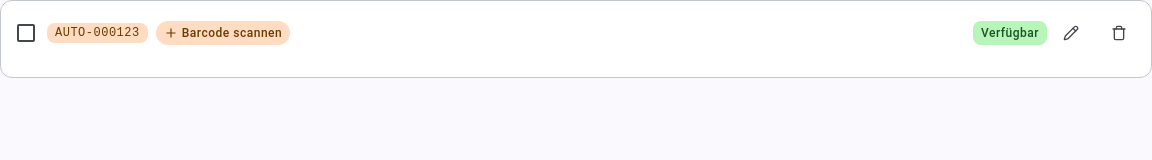
Scenario: Exemplarkarte: leerer Barcode › nimmt den Grund des Servers weg, sobald eine interne ID im Feld steht
The image size is (1152, 160).
Step 1. Click the button "Barcode scannen" → (223, 33), box [156, 21, 290, 45]
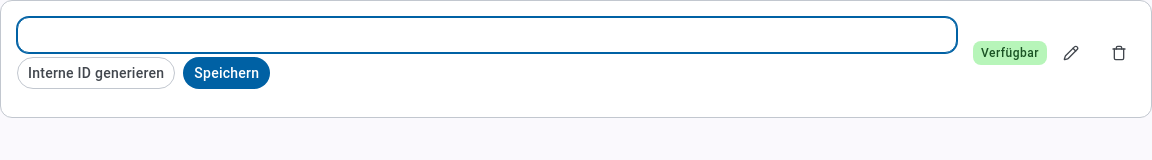
Step 2. Type "B-0041873" into the field named "Barcode des Exemplars" → (487, 35), box [17, 17, 957, 53]
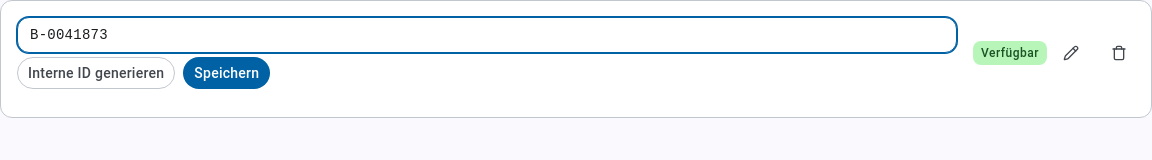
Step 3. Click the button "Speichern" → (227, 73), box [183, 57, 270, 89]
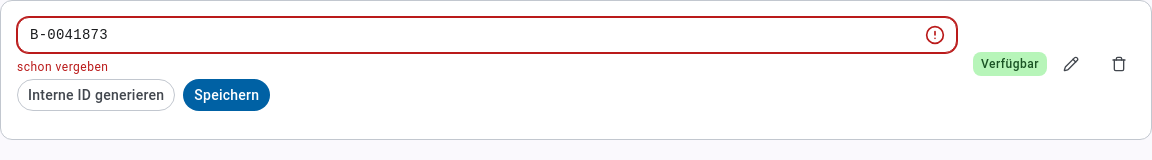
Check: the text "schon vergeben" is shown, box [17, 60, 108, 74]
Step 4. Click the button "Interne ID generieren" → (96, 95), box [17, 79, 175, 111]
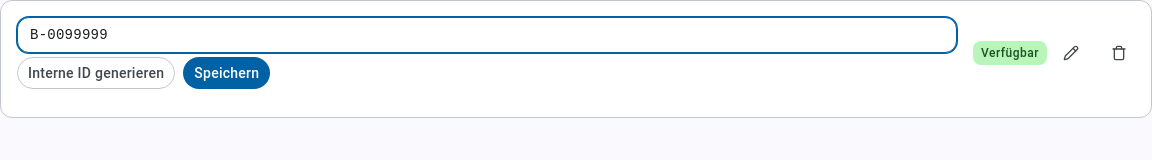
Check: the field named "Barcode des Exemplars" holds "B-0099999", box [17, 17, 957, 53]
